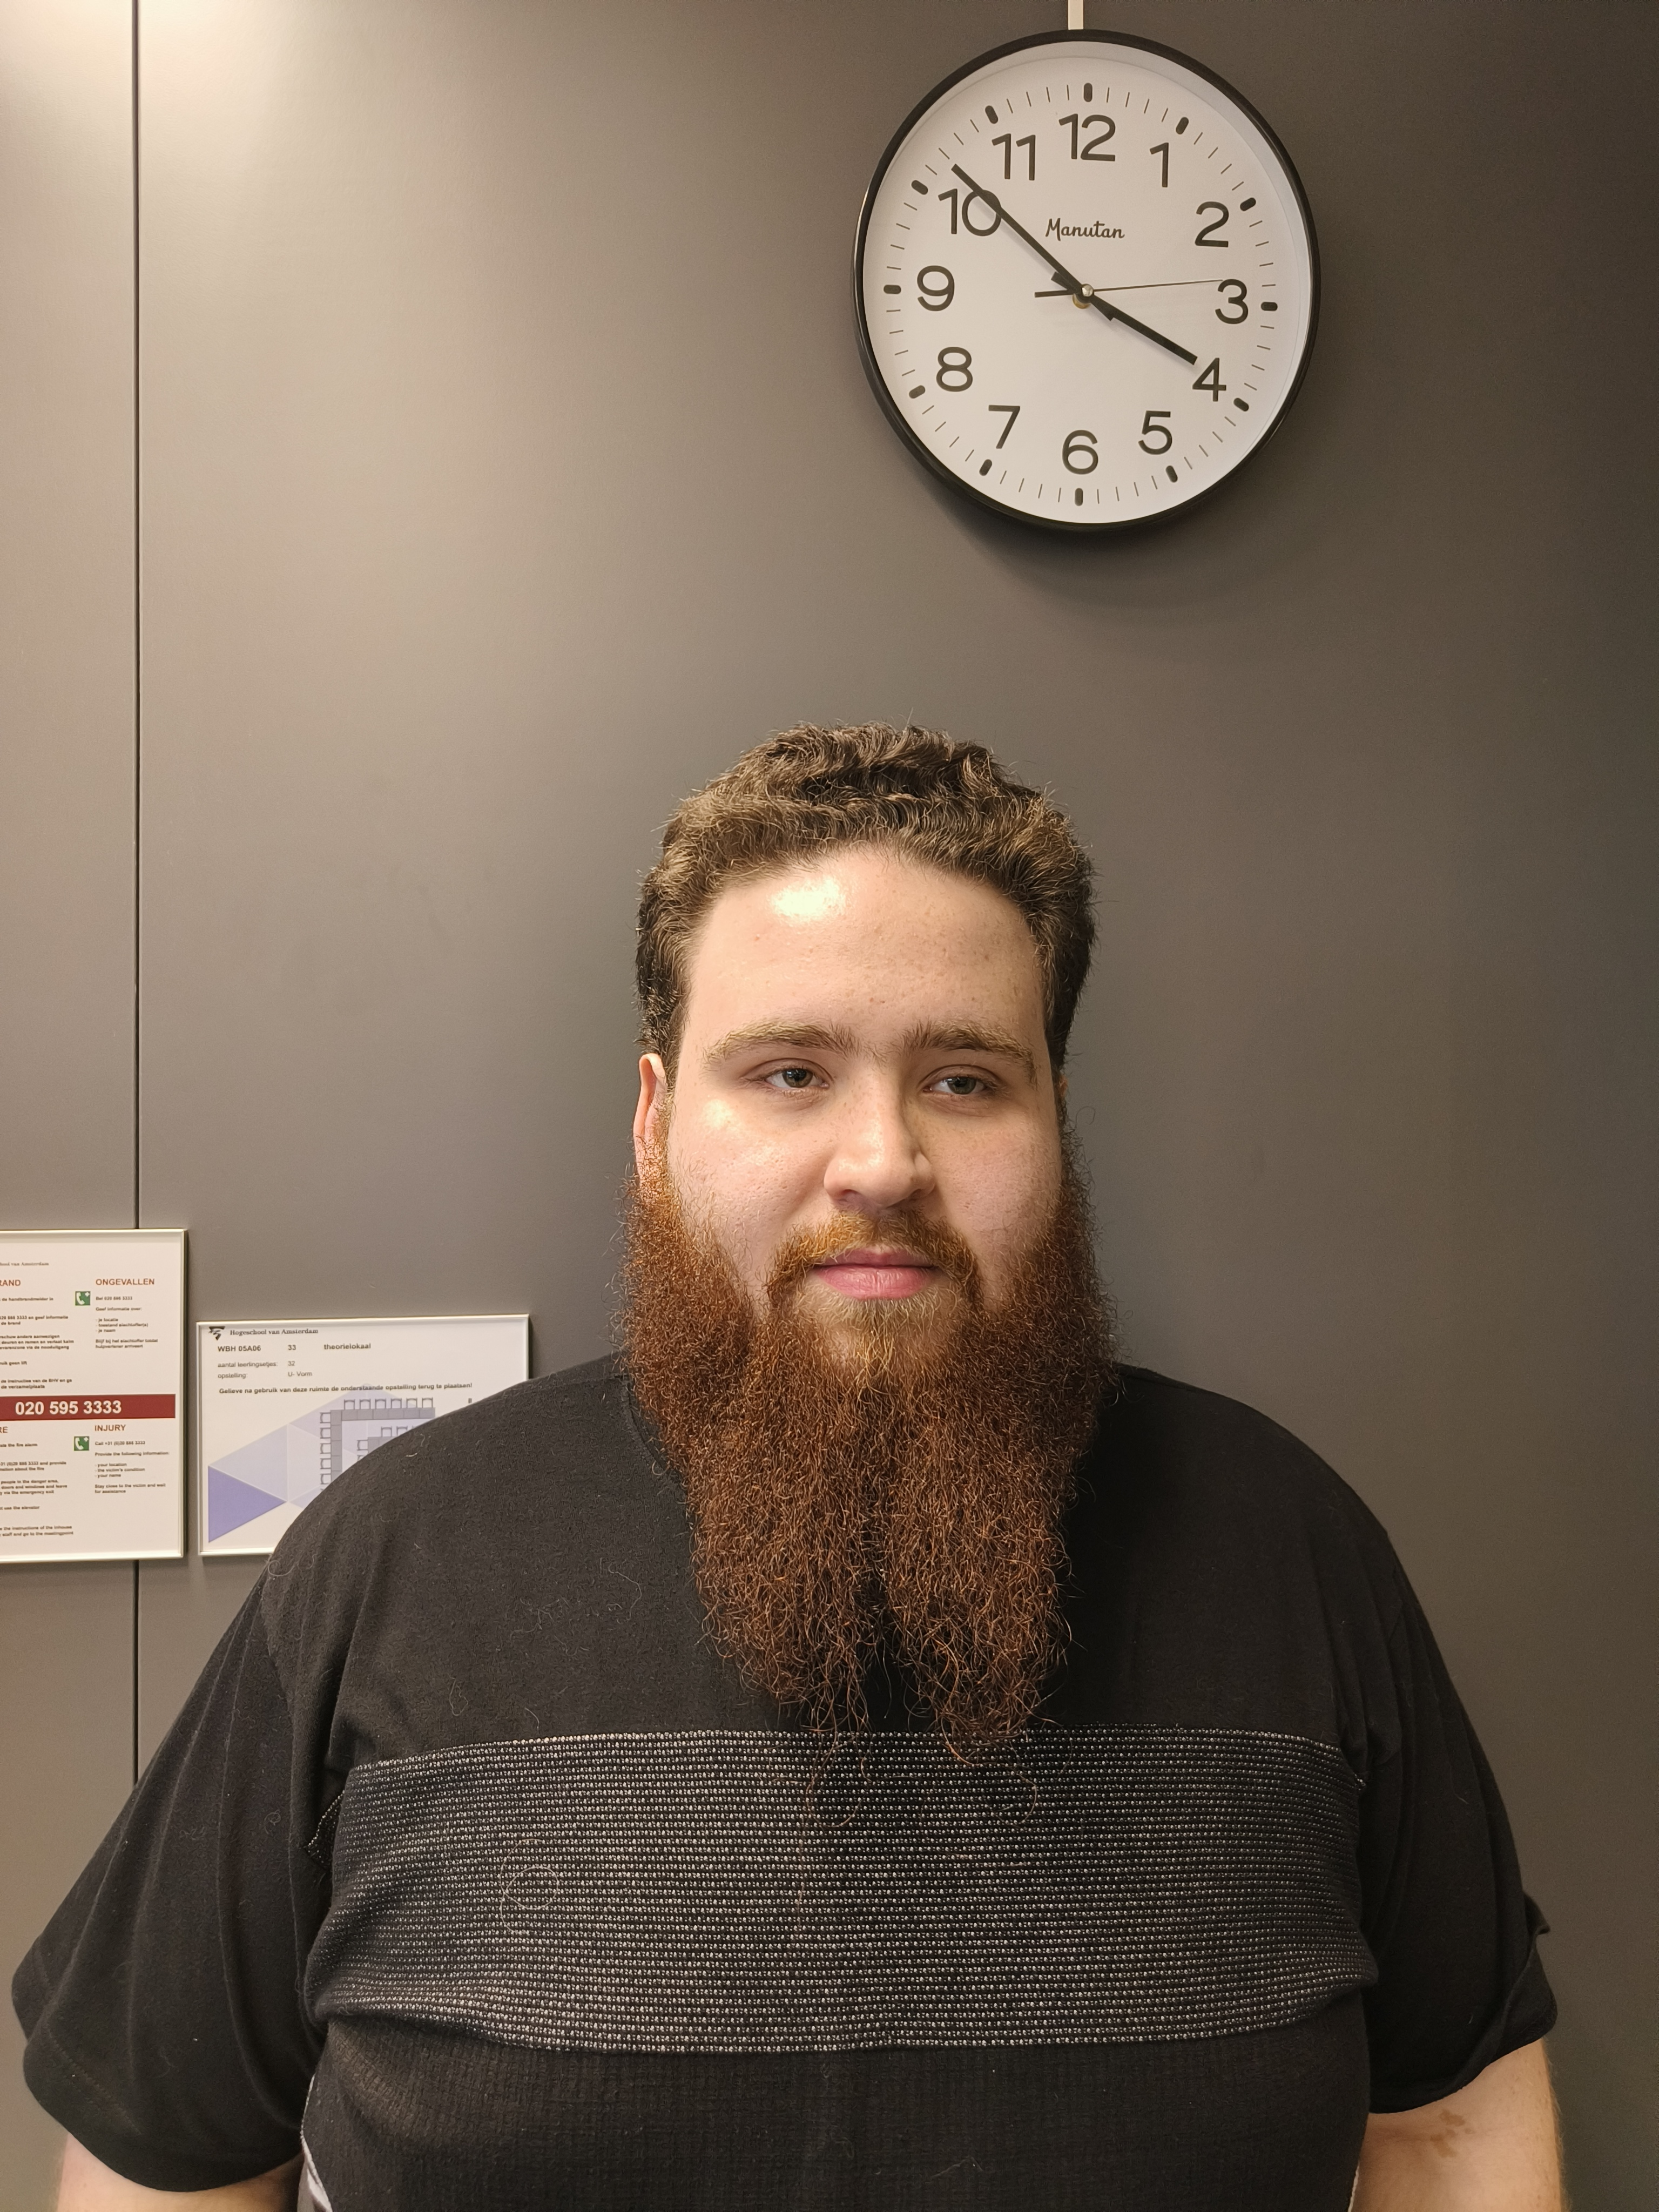face: (726, 922, 976, 1277)
